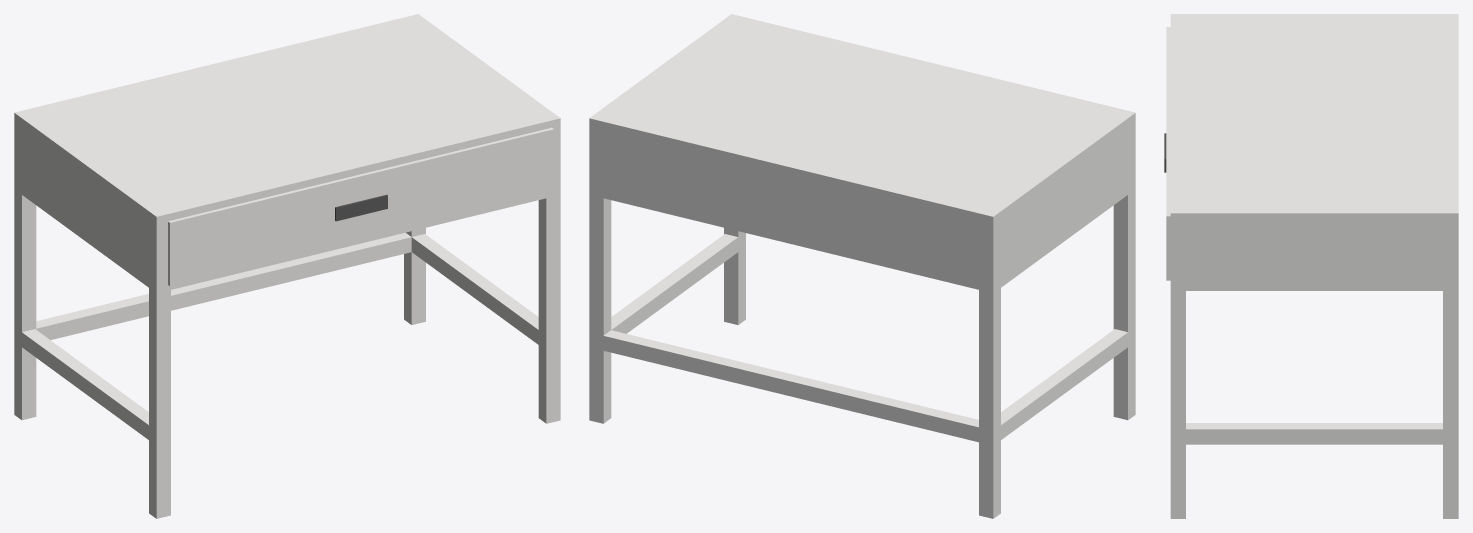
Rendered from Table_14.fbx.
3 renders of one model, left to right at view 1: azimuth 30°, elevation 25°; view 2: azimuth 150°, elevation 25°; view 3: azimuth 270°, elevation 25°, orthographic.
Visible parts, largest first — view 1: Table_14; view 2: Table_14; view 3: Table_14.
Part boxes in pixels (x1,y1,x2,y2): Table_14: (14,14,560,518); Table_14: (589,14,1135,518); Table_14: (1164,14,1458,518).
Size of the model in its own units: 137 by 85.4 by 97.8.
